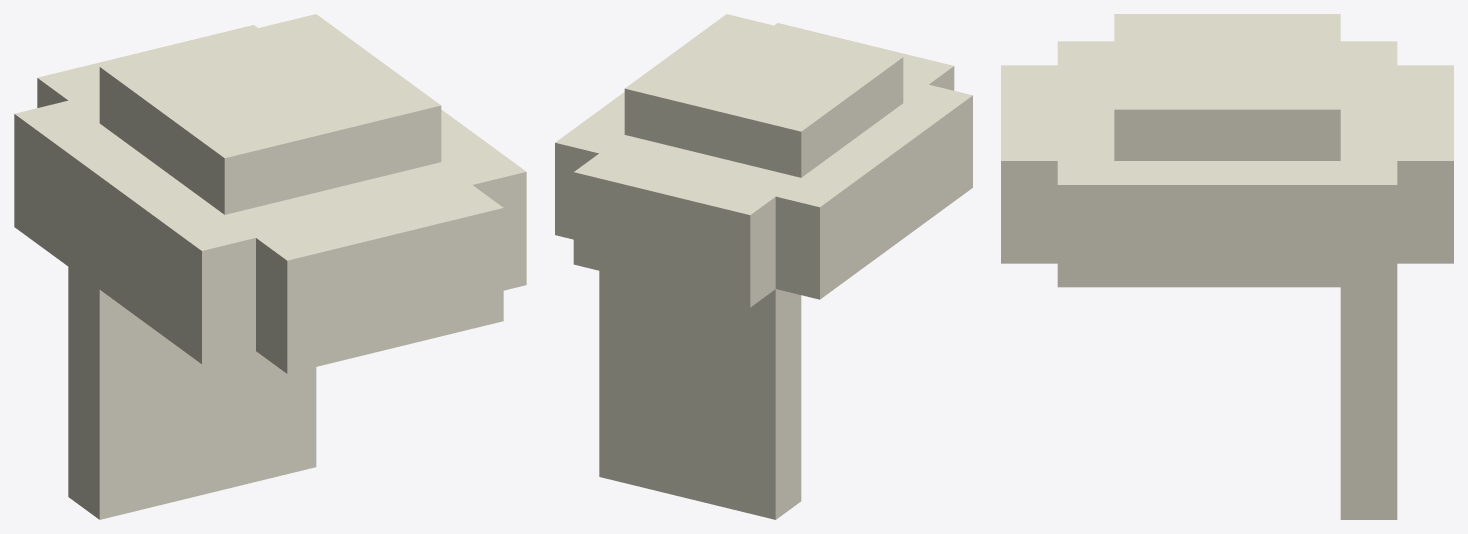
The model's file is characters_export_red-189-helm_lgt_1a_sh.obj.
The picture shows the model from 3 angles, left to right: view 1: azimuth 30°, elevation 25°; view 2: azimuth 150°, elevation 25°; view 3: azimuth 270°, elevation 25°; orthographic projection. The views are drawn at different scales.
Parts seen in each view (by area): view 1: helm_lgt_1a_sh; view 2: helm_lgt_1a_sh; view 3: helm_lgt_1a_sh.
Part boxes in pixels (left/top/right/bottom): helm_lgt_1a_sh: left=14, top=14, right=526, bottom=519; helm_lgt_1a_sh: left=555, top=14, right=972, bottom=519; helm_lgt_1a_sh: left=1001, top=14, right=1453, bottom=519.
Size of the model in its own units: 0.6 by 0.8 by 0.8.
Materials: 1 (1 with a texture image).
